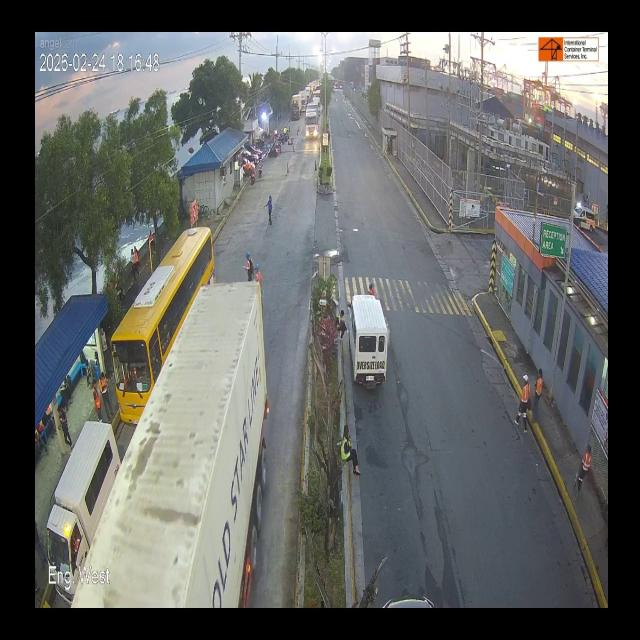bus: (105, 218, 216, 424)
car: (47, 428, 109, 588), (349, 292, 405, 388)
truck: (112, 287, 280, 596), (301, 99, 325, 145)
